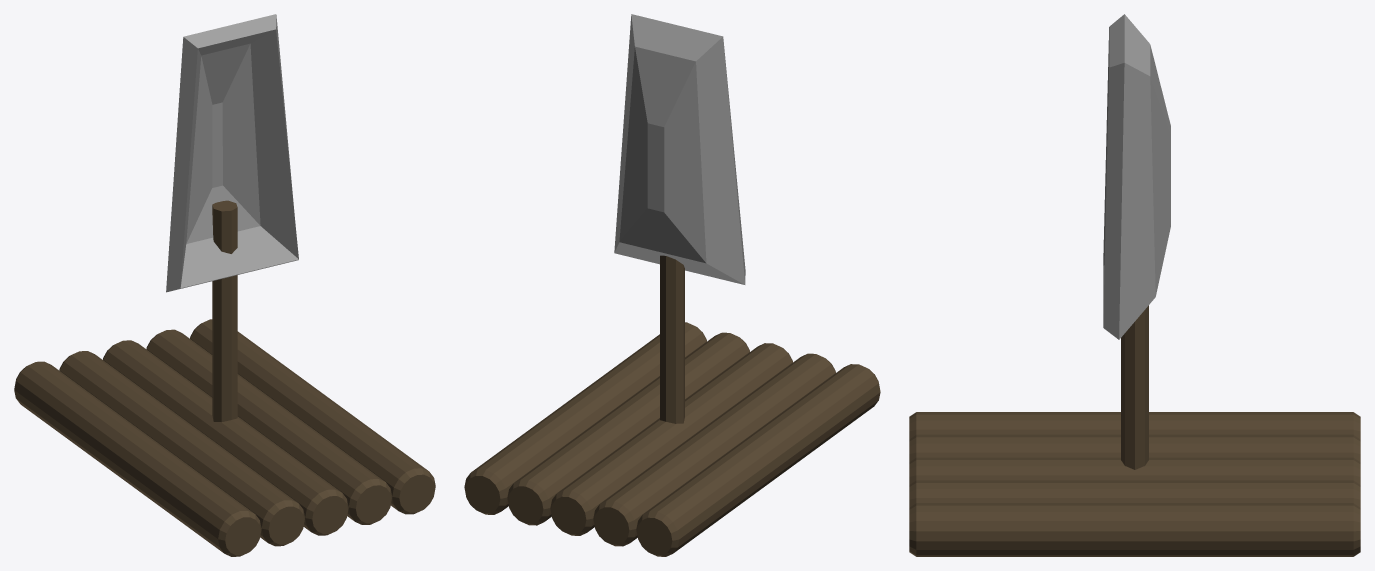
Rendered from raft2.fbx.
The picture shows the model from 3 angles, left to right: view 1: azimuth 30°, elevation 25°; view 2: azimuth 150°, elevation 25°; view 3: azimuth 270°, elevation 25°; orthographic projection. The views are drawn at different scales.
Visible parts, largest first — view 1: Raft2, Sail; view 2: Raft2, Sail; view 3: Raft2, Sail.
Part boxes in pixels (<box>): Raft2: <box>14,319,435,556</box>; Sail: <box>166,14,298,422</box>; Raft2: <box>464,322,880,556</box>; Sail: <box>614,14,745,423</box>; Raft2: <box>909,412,1360,556</box>; Sail: <box>1103,14,1170,469</box>.
Size of the model in its own units: 250 by 482 by 418.
